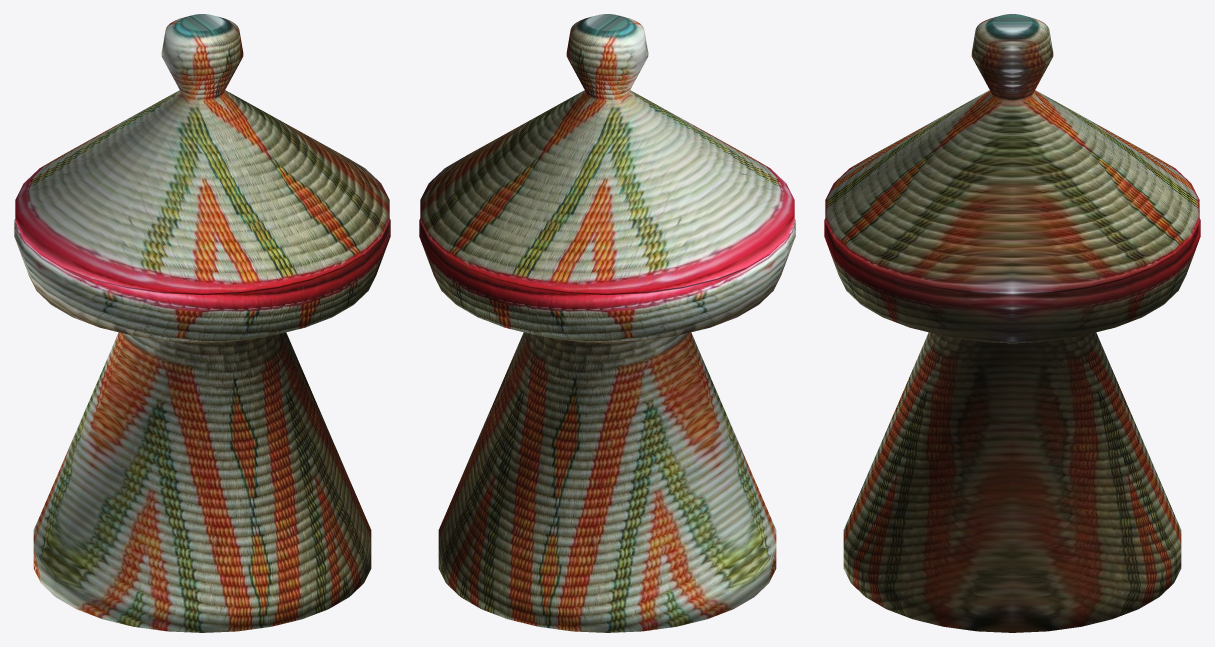
The model's file is main body.fbx.
3 views of the same model, side by side, from view 1: azimuth 30°, elevation 25°; view 2: azimuth 150°, elevation 25°; view 3: azimuth 270°, elevation 25° (orthographic).
Visible parts, largest first — view 1: Group3, Group2; view 2: Group3, Group2; view 3: Group3, Group2.
Boxes of the visible parts, x1,y1,x2,y2 form: Group3: (14,218,390,632); Group2: (15,14,389,295); Group3: (419,218,795,632); Group2: (420,14,794,295); Group3: (824,218,1200,632); Group2: (825,14,1199,295).
Bounding box in the file's own units: 0.5754 × 0.9046 × 0.5722.
